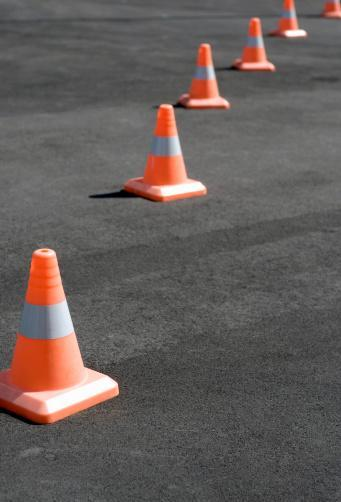Cone: (1, 247, 121, 426), (124, 102, 205, 205), (179, 42, 229, 110), (230, 17, 276, 76), (264, 1, 306, 36)
